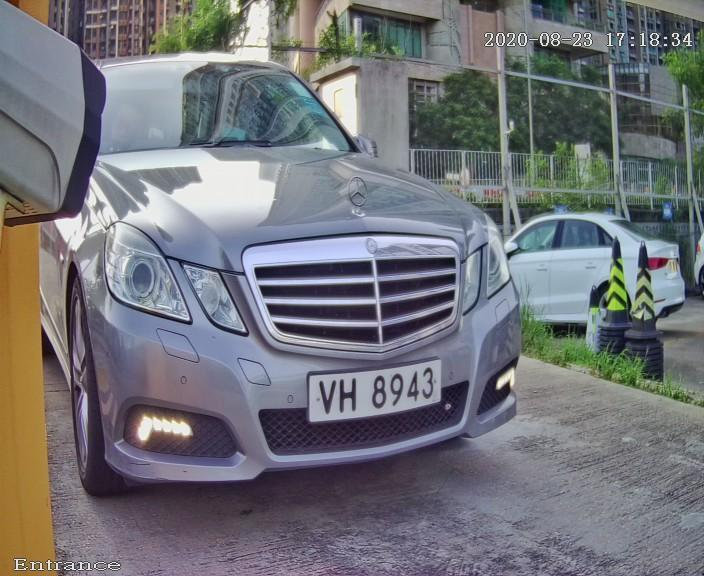Car: (35, 13, 582, 517)
License Plate: (263, 335, 501, 450)
